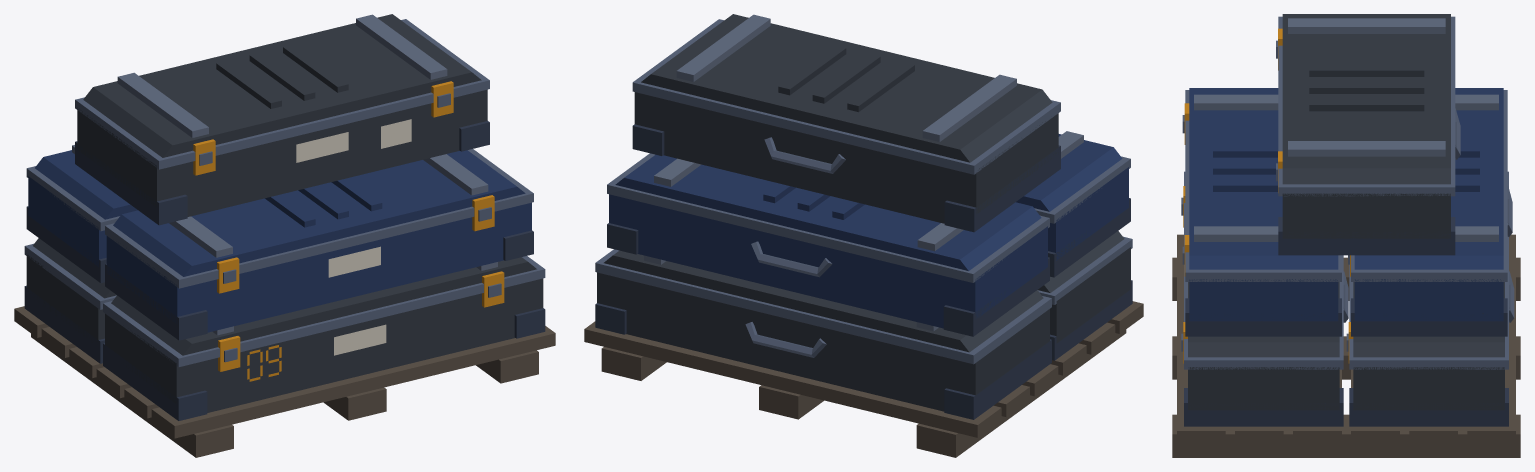
The model's file is wh_weapon_case_stack.glb.
3 views of the same model, side by side, from view 1: azimuth 30°, elevation 25°; view 2: azimuth 150°, elevation 25°; view 3: azimuth 270°, elevation 25° (orthographic). The views are drawn at different scales.
Visible parts, largest first — view 1: flight_shell, flight_shell.001, closure_band, cross_plank, corner_shoe, lid_runner, digit, inventory, hazard_class; view 2: flight_shell, flight_shell.001, closure_band, cross_plank, corner_shoe, lid_runner; view 3: flight_shell, flight_shell.001, closure_band, cross_plank, corner_shoe, lid_runner, digit.
Part boxes in pixels (box(x1,y1,x2,y2)): flight_shell: box(26, 14, 543, 412); flight_shell.001: box(28, 150, 531, 332); closure_band: box(24, 19, 545, 367); cross_plank: box(14, 306, 555, 457); corner_shoe: box(24, 121, 545, 420); lid_runner: box(72, 14, 497, 335); digit: box(193, 81, 504, 381); inventory: box(296, 132, 386, 355); hazard_class: box(381, 119, 411, 148); flight_shell: box(597, 14, 1130, 411); flight_shell.001: box(609, 134, 1128, 328); closure_band: box(595, 19, 1132, 364); cross_plank: box(584, 301, 1143, 457); corner_shoe: box(595, 124, 1132, 419); lid_runner: box(644, 14, 1083, 331); flight_shell: box(1188, 14, 1504, 410); flight_shell.001: box(1189, 88, 1503, 321); closure_band: box(1181, 16, 1514, 369); cross_plank: box(1172, 234, 1520, 457); corner_shoe: box(1184, 217, 1508, 426); lid_runner: box(1194, 18, 1498, 241); digit: box(1183, 28, 1353, 363).
Size of the model in its own units: 1.6 by 1.1 by 1.2.
